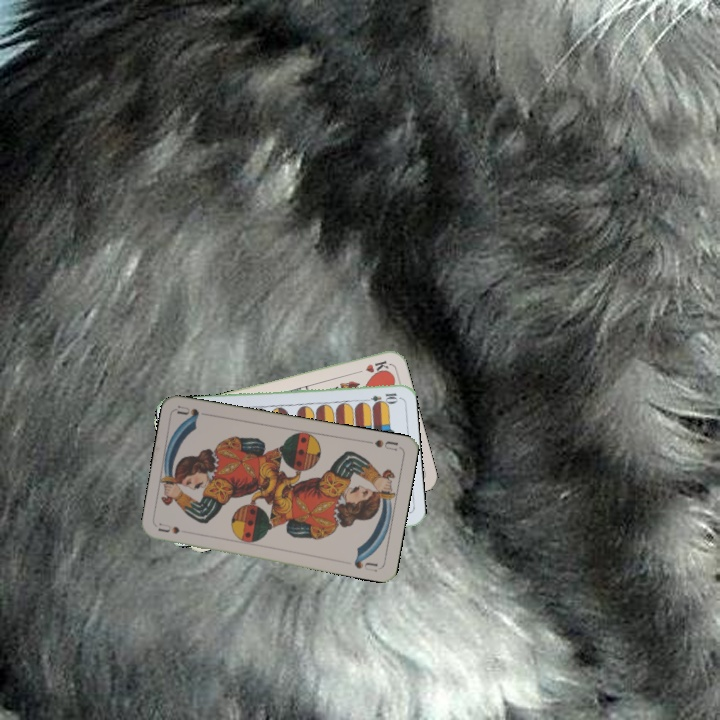E10: (359, 389, 400, 405)
HK: (350, 356, 391, 376)
SU: (362, 435, 402, 453), (155, 519, 182, 536)
